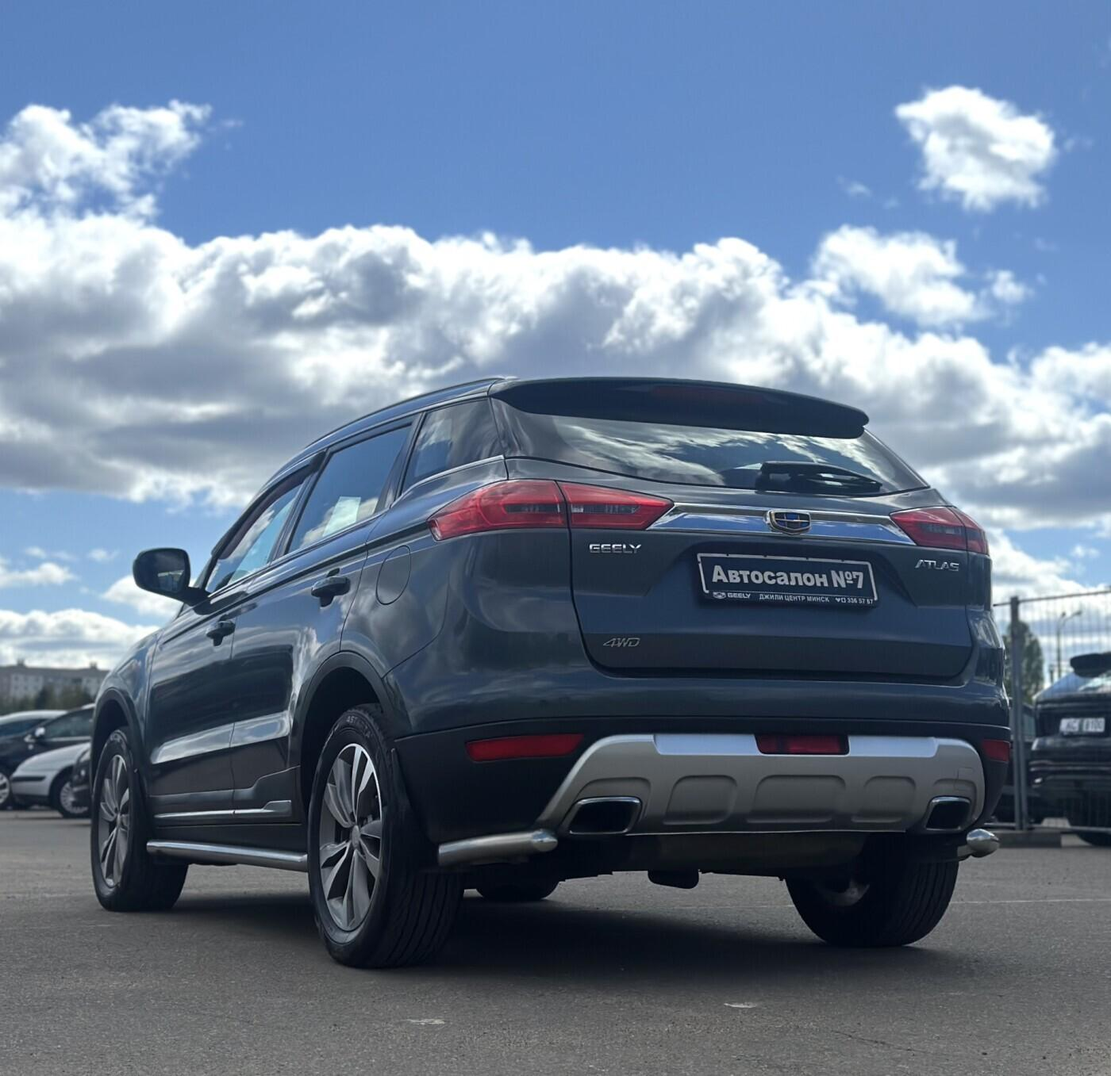Atlas_2016-2023: (89, 371, 1013, 949)
